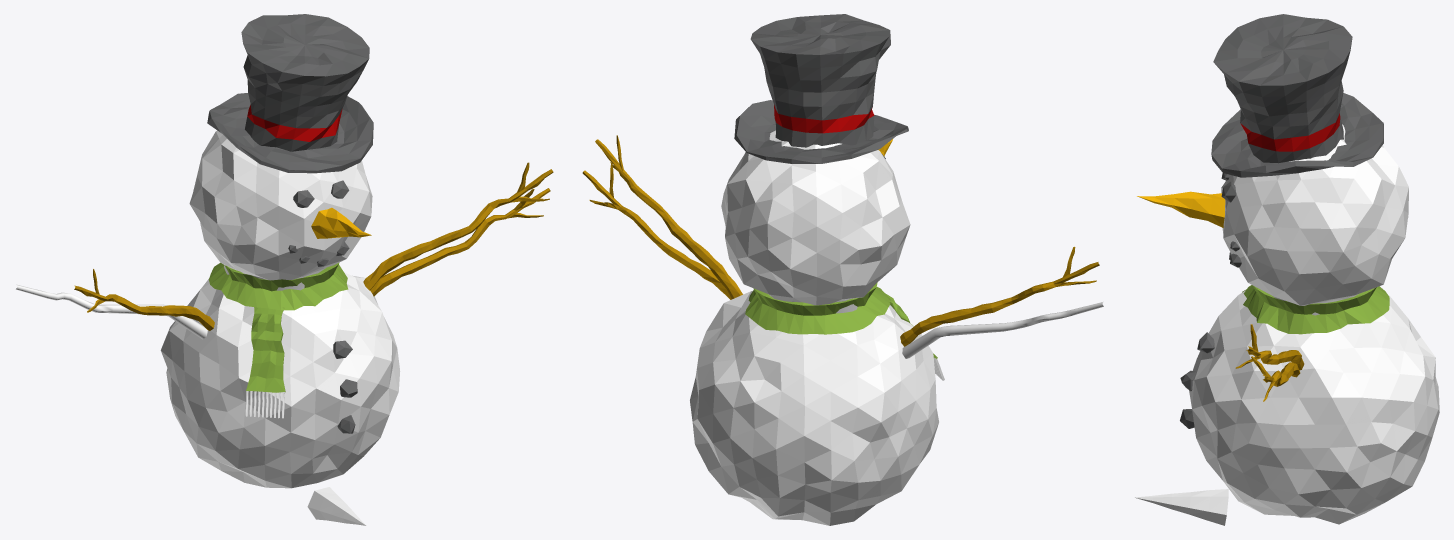
File: Snowman.glb
3 renders of one model, left to right at view 1: azimuth 30°, elevation 25°; view 2: azimuth 150°, elevation 25°; view 3: azimuth 270°, elevation 25°, orthographic. The views are drawn at different scales.
Parts seen in each view (by area): view 1: upper_body.1, Hat.1, head_sphere.1, Scarf.1, Symmetry, scarf_end, Spline_sweep, Spline_sweep_2, Cone.1, Cone, Null; view 2: upper_body.1, head_sphere.1, Hat.1, Scarf.1, Symmetry, Spline_sweep_2, Spline_sweep; view 3: upper_body.1, head_sphere.1, Hat.1, Scarf.1, Cone.1, Cone, Symmetry, Null, Spline_sweep.
Boxes of the visible parts, left/top/right/bottom form: upper_body.1: left=160, top=272, right=400, bottom=488; Hat.1: left=207, top=14, right=373, bottom=173; head_sphere.1: left=189, top=130, right=372, bottom=280; Scarf.1: left=208, top=262, right=348, bottom=310; Symmetry: left=74, top=162, right=553, bottom=330; scarf_end: left=246, top=307, right=285, bottom=392; Spline_sweep: left=370, top=188, right=550, bottom=296; Spline_sweep_2: left=16, top=284, right=207, bottom=339; Cone.1: left=307, top=487, right=366, bottom=525; Cone: left=311, top=207, right=371, bottom=238; Null: left=333, top=340, right=357, bottom=433; upper_body.1: left=690, top=291, right=938, bottom=525; head_sphere.1: left=721, top=130, right=910, bottom=305; Hat.1: left=734, top=14, right=908, bottom=163; Scarf.1: left=745, top=282, right=890, bottom=334; Symmetry: left=595, top=135, right=1099, bottom=346; Spline_sweep_2: left=902, top=302, right=1103, bottom=358; Spline_sweep: left=582, top=163, right=731, bottom=299; upper_body.1: left=1189, top=290, right=1439, bottom=524; head_sphere.1: left=1221, top=124, right=1408, bottom=305; Hat.1: left=1211, top=14, right=1383, bottom=177; Scarf.1: left=1243, top=285, right=1389, bottom=334; Cone.1: left=1134, top=489, right=1228, bottom=525; Cone: left=1137, top=191, right=1225, bottom=227; Symmetry: left=1235, top=324, right=1304, bottom=370; Null: left=1180, top=332, right=1214, bottom=428; Spline_sweep: left=1251, top=356, right=1300, bottom=401.
Bounding box in the file's own units: 260 × 221 × 126.
